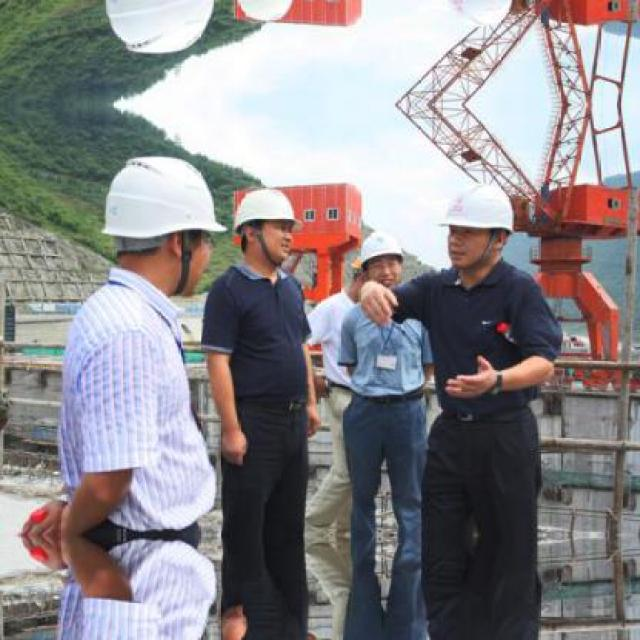helmet: (102, 148, 224, 292), (102, 0, 225, 63), (440, 179, 517, 273), (230, 187, 293, 265), (355, 226, 408, 294), (440, 0, 518, 31), (229, 0, 294, 23)
